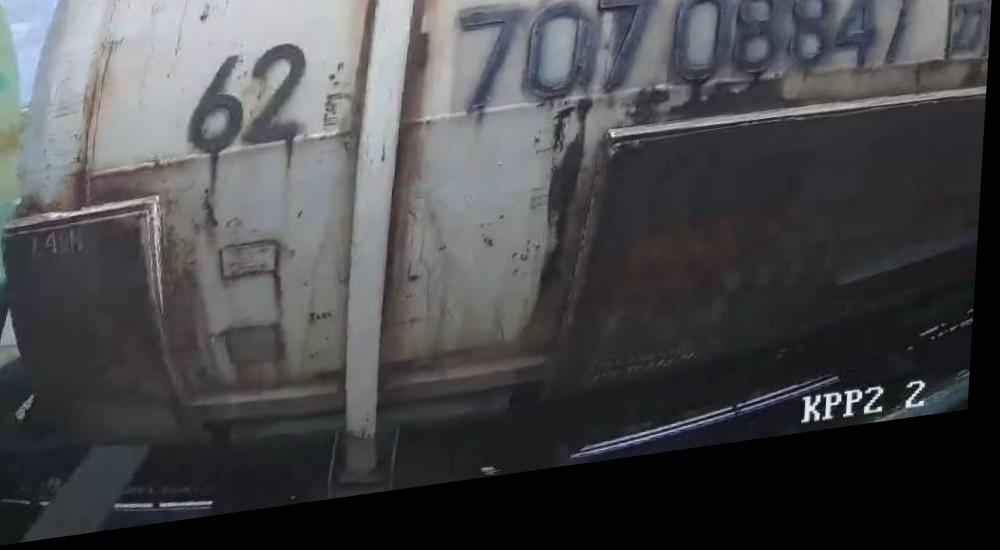Wagon-number: (450, 0, 925, 142)
